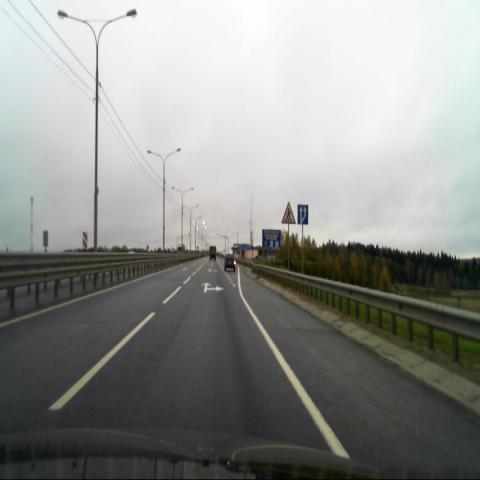1_22: (282, 202, 296, 223)
